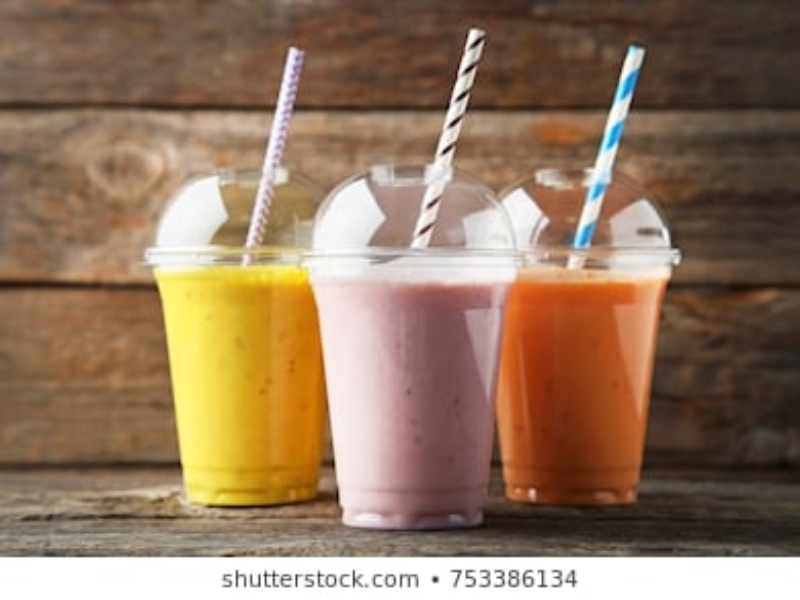plastic-cup: (301, 160, 527, 538), (135, 165, 358, 507), (481, 158, 685, 516)
straw: (565, 38, 651, 273), (413, 24, 491, 248), (244, 41, 302, 268)
